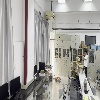fire: (56, 61, 60, 79)
